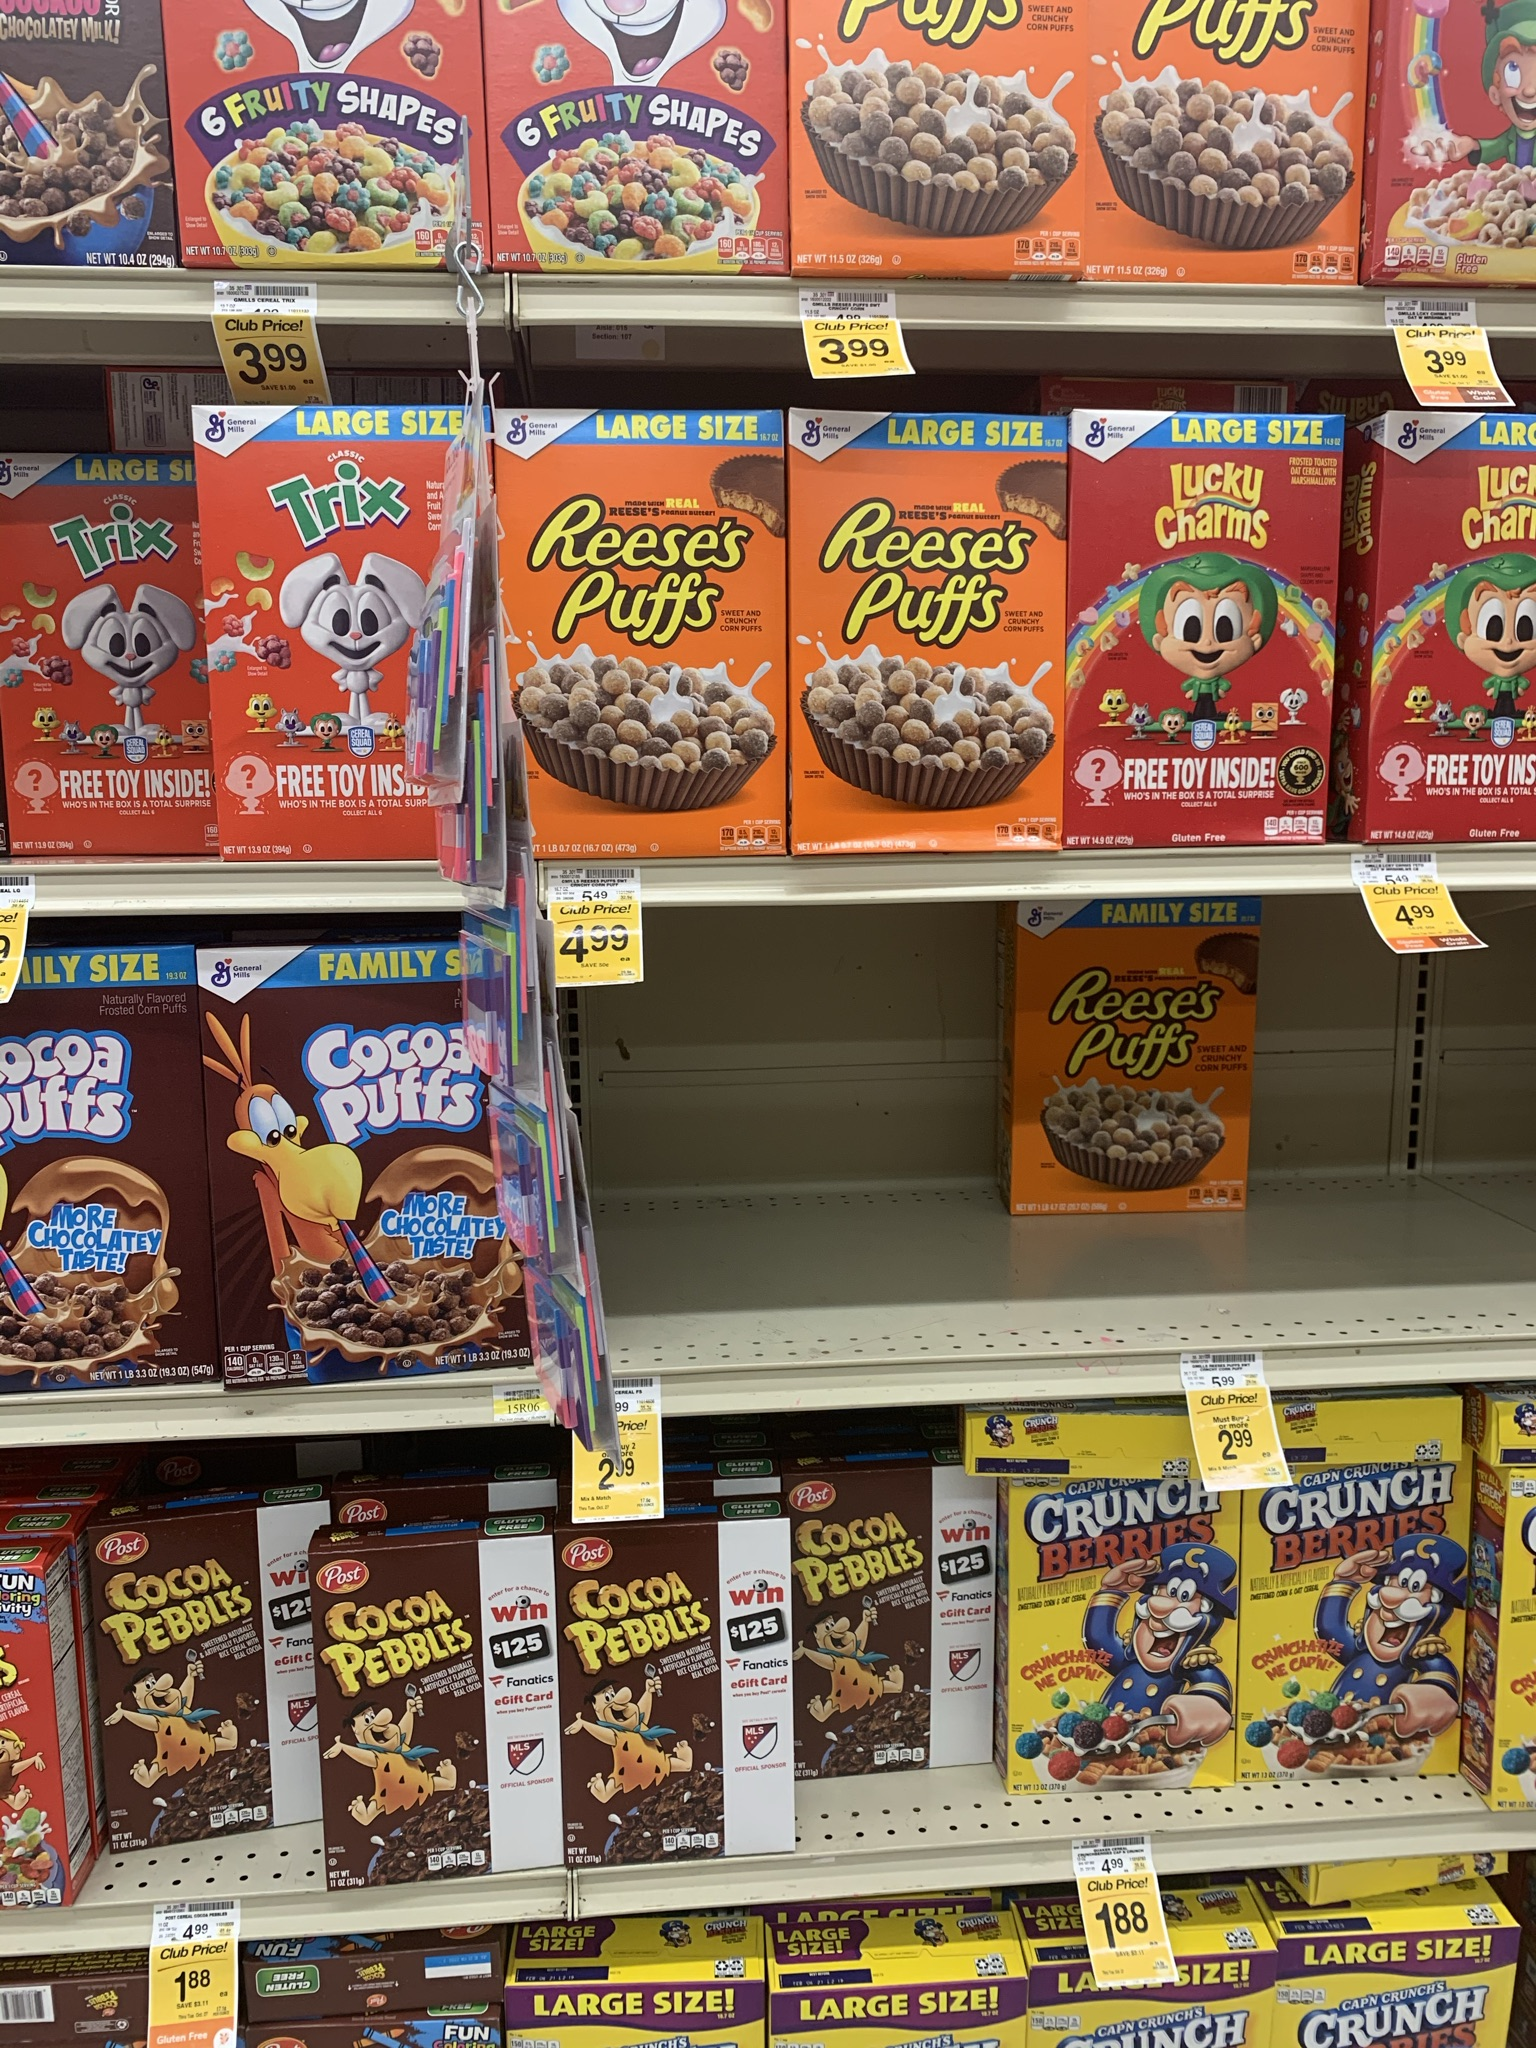cereal: (211, 956, 528, 1376), (490, 402, 784, 851), (787, 414, 1078, 861), (1057, 414, 1321, 843), (486, 1534, 795, 1866), (310, 1551, 586, 1885), (3, 951, 190, 1401), (81, 1538, 363, 1827), (1079, 6, 1363, 290), (1013, 897, 1263, 1214), (487, 3, 776, 277), (792, 10, 1079, 276), (169, 2, 453, 269), (763, 1472, 1005, 1785), (1249, 1466, 1468, 1779), (1375, 421, 1536, 839), (1012, 1493, 1239, 1787)
